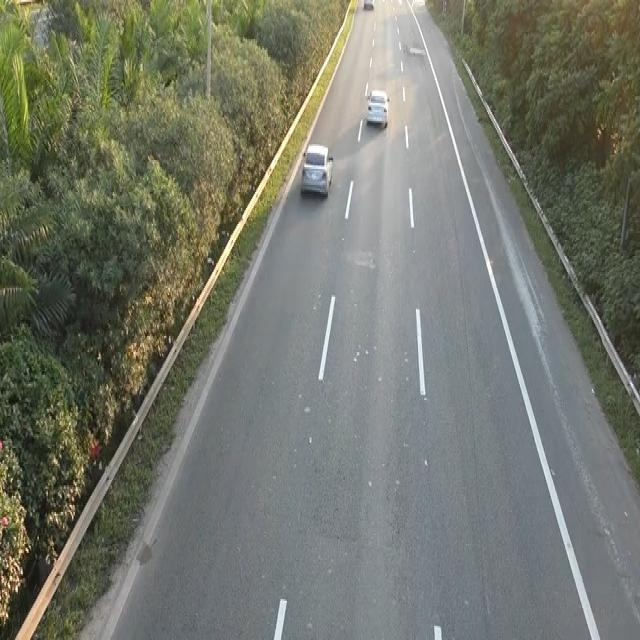bus: (299, 141, 334, 199), (365, 85, 390, 128)
